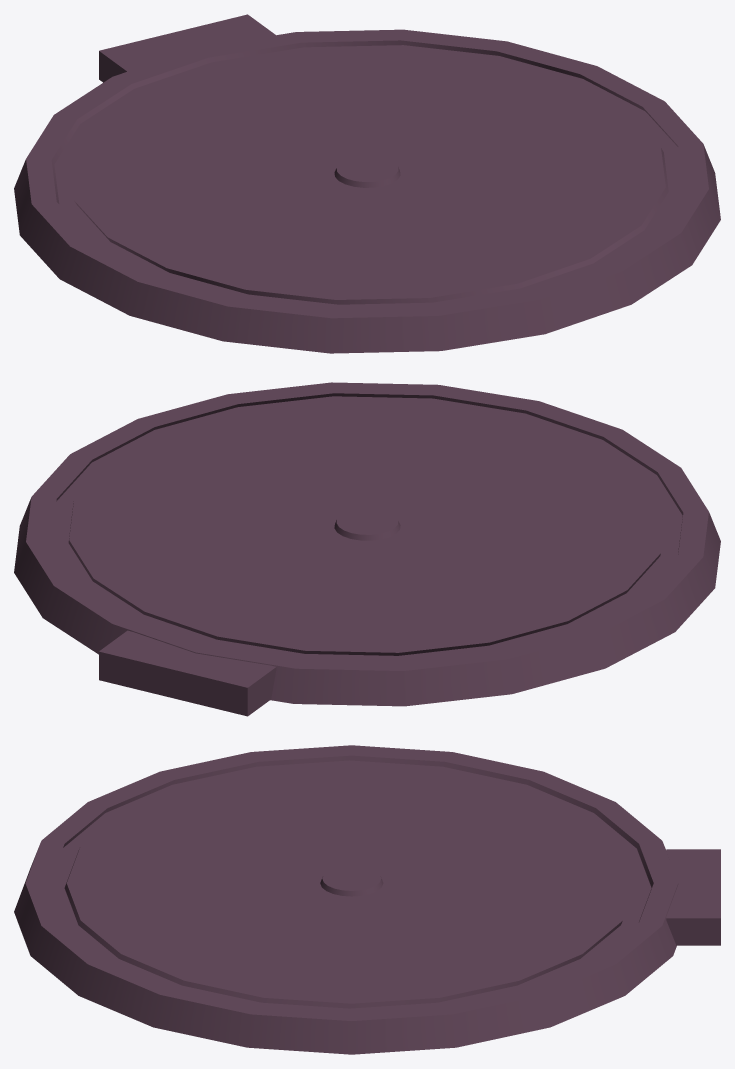
Rendered from Man hole.fbx.
3 renders of one model, top to bottom at view 1: azimuth 30°, elevation 25°; view 2: azimuth 150°, elevation 25°; view 3: azimuth 270°, elevation 25°, orthographic. The views are drawn at different scales.
Visible parts, largest first — view 1: manhole, manhole square; view 2: manhole, manhole square; view 3: manhole, manhole square.
Part boxes in pixels (x1,y1,x2,y2): manhole: (14, 29, 720, 353); manhole square: (99, 14, 275, 82); manhole: (14, 382, 720, 706); manhole square: (99, 630, 276, 716); manhole: (14, 745, 678, 1054); manhole square: (666, 849, 720, 945).
Size of the model in its own units: 200 by 10.92 by 209.
